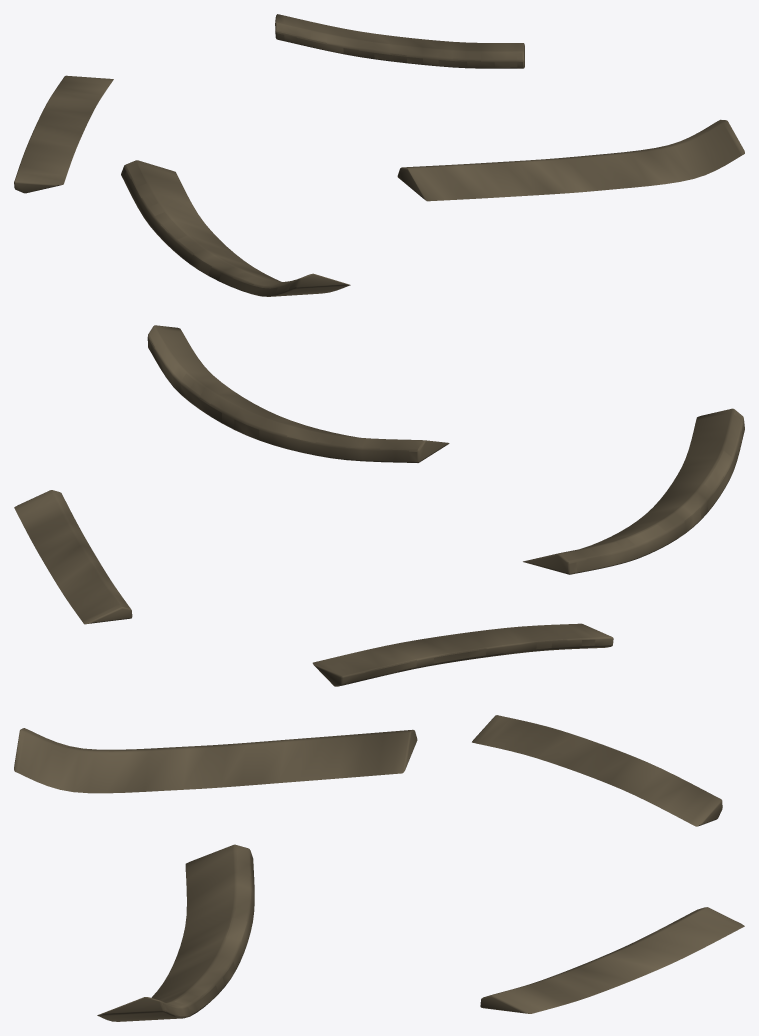
File: organic-remains.glb
3 renders of one model, top to bottom at view 1: azimuth 30°, elevation 25°; view 2: azimuth 150°, elevation 25°; view 3: azimuth 270°, elevation 25°, orthographic. The views are drawn at different scales.
Visible parts, largest first — view 1: organic-remains; view 2: organic-remains; view 3: organic-remains.
Boxes of the visible parts, <box> form: organic-remains: <box>14,14,744,296</box>; organic-remains: <box>14,325,744,686</box>; organic-remains: <box>14,715,744,1021</box>.
Size of the model in its own units: 1.17 by 0.093 by 1.13.
